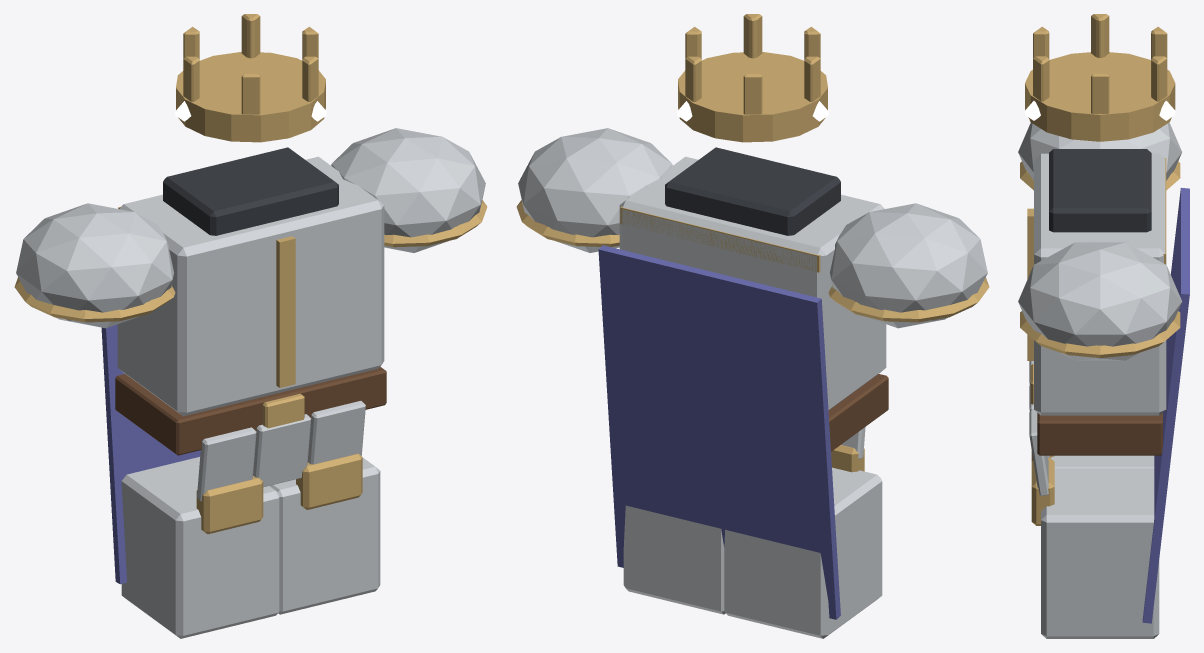
File: Roi_Equipement.fbx
3 views of the same model, side by side, from view 1: azimuth 30°, elevation 25°; view 2: azimuth 150°, elevation 25°; view 3: azimuth 270°, elevation 25° (orthographic).
Parts seen in each view (by area): view 1: UpperTorso__Acier, RightLowerLeg__Acier, RightUpperArm__Acier, Head__Laiton, LeftUpperArm__Acier, LeftLowerLeg__Acier, UpperTorso__Metal, LowerTorso__Acier, LowerTorso__Cuir, UpperTorso__Indigo, UpperTorso__Laiton, RightLowerLeg__Laiton (+4 smaller); view 2: UpperTorso__Indigo, UpperTorso__Acier, RightLowerLeg__Acier, RightUpperArm__Acier, Head__Laiton, LeftUpperArm__Acier, UpperTorso__Metal, LeftLowerLeg__Acier, LowerTorso__Cuir, UpperTorso__Laiton, RightUpperArm__Laiton, LeftUpperArm__Laiton (+1 smaller); view 3: LeftLowerLeg__Acier, LeftUpperArm__Acier, Head__Laiton, UpperTorso__Acier, UpperTorso__Metal, UpperTorso__Indigo, LowerTorso__Cuir, RightUpperArm__Acier, LeftUpperArm__Laiton, RightLowerLeg__Acier, LowerTorso__Acier, LeftLowerLeg__Laiton (+3 smaller).
Boxes of the visible parts, x1=… form: UpperTorso__Acier: x1=117, y1=156, x2=384, y2=416; RightLowerLeg__Acier: x1=121, y1=457, x2=279, y2=638; RightUpperArm__Acier: x1=16, y1=203, x2=173, y2=328; Head__Laiton: x1=176, y1=14, x2=325, y2=142; LeftUpperArm__Acier: x1=331, y1=128, x2=485, y2=252; LeftLowerLeg__Acier: x1=269, y1=457, x2=380, y2=614; UpperTorso__Metal: x1=163, y1=147, x2=338, y2=235; LowerTorso__Acier: x1=197, y1=401, x2=365, y2=501; LowerTorso__Cuir: x1=115, y1=366, x2=386, y2=455; UpperTorso__Indigo: x1=101, y1=324, x2=200, y2=584; UpperTorso__Laiton: x1=118, y1=206, x2=295, y2=387; RightLowerLeg__Laiton: x1=196, y1=476, x2=263, y2=534; UpperTorso__Indigo: x1=598, y1=245, x2=840, y2=619; UpperTorso__Acier: x1=619, y1=156, x2=886, y2=409; RightLowerLeg__Acier: x1=724, y1=467, x2=882, y2=638; RightUpperArm__Acier: x1=830, y1=203, x2=987, y2=328; Head__Laiton: x1=678, y1=14, x2=827, y2=142; LeftUpperArm__Acier: x1=518, y1=128, x2=672, y2=252; UpperTorso__Metal: x1=665, y1=147, x2=840, y2=235; LeftLowerLeg__Acier: x1=623, y1=505, x2=725, y2=614; LowerTorso__Cuir: x1=828, y1=374, x2=888, y2=451; UpperTorso__Laiton: x1=620, y1=206, x2=820, y2=272; RightUpperArm__Laiton: x1=828, y1=277, x2=989, y2=322; LeftUpperArm__Laiton: x1=516, y1=200, x2=619, y2=246; LeftLowerLeg__Acier: x1=1041, y1=468, x2=1159, y2=638; LeftUpperArm__Acier: x1=1018, y1=242, x2=1182, y2=360; Head__Laiton: x1=1025, y1=14, x2=1175, y2=141; UpperTorso__Acier: x1=1034, y1=153, x2=1166, y2=415; UpperTorso__Metal: x1=1049, y1=149, x2=1151, y2=232; UpperTorso__Indigo: x1=1142, y1=187, x2=1189, y2=623; LowerTorso__Cuir: x1=1037, y1=413, x2=1162, y2=455; RightUpperArm__Acier: x1=1018, y1=122, x2=1181, y2=180; LeftUpperArm__Laiton: x1=1020, y1=311, x2=1180, y2=357; RightLowerLeg__Acier: x1=1051, y1=455, x2=1154, y2=468; LowerTorso__Acier: x1=1029, y1=361, x2=1049, y2=495; LeftLowerLeg__Laiton: x1=1031, y1=457, x2=1054, y2=525.
Size of the model in its own units: 454 by 530 by 151.
